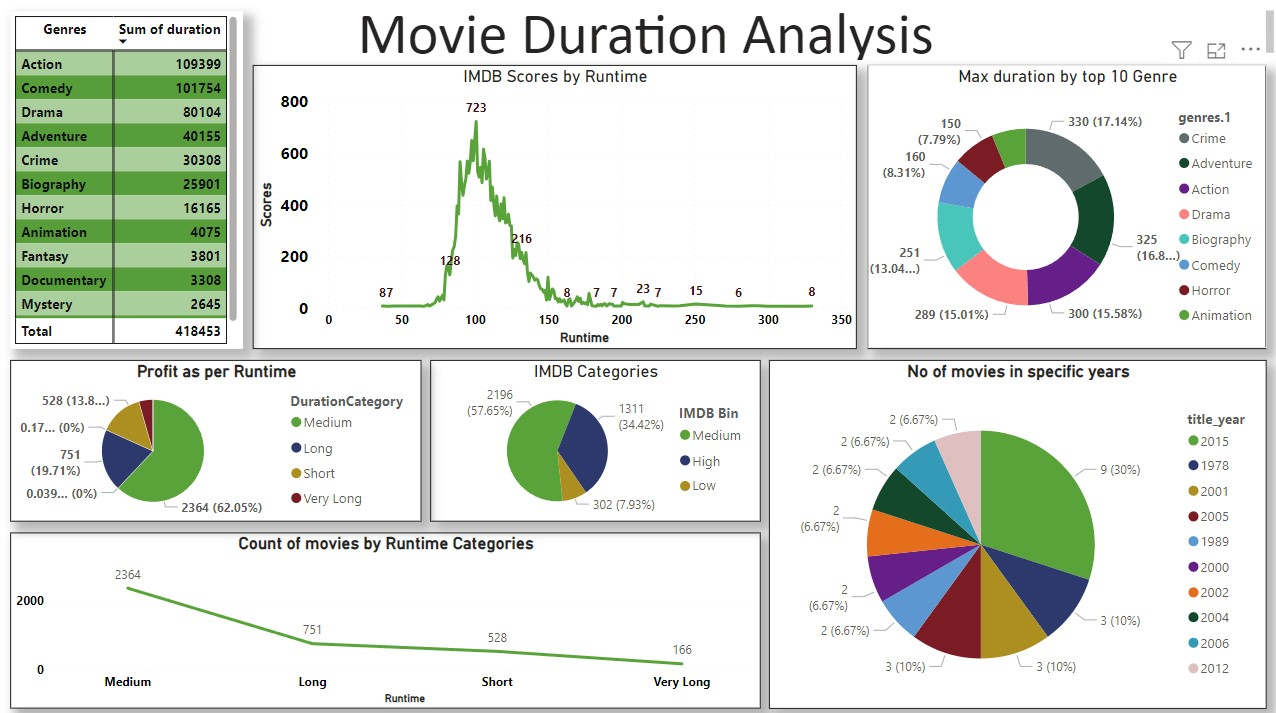

Layout of this report page (visuals, bound fields, positions):
{"tool":"powerbi","page":{"name":"Movie Duration Analysis","canvas":[1280,720],"ordinal":1},"visuals":[{"type":"textbox","box":[21.2,0,1258.8,65],"z":0},{"type":"lineChart","title":"IMDB Scores by Runtime","fields":{"Category":["IMDB_Movies.duration"],"Y":["Sum(IMDB_Movies.imdb_score)"]},"box":[253.8,65,603.8,283.8],"z":1000},{"type":"lineChart","title":"Count of movies  by Runtime Categories","fields":{"Category":["IMDB_Movies.DurationCategory"],"Y":["IMDB_Movies.MovieCount"]},"box":[11.2,532.5,750,176.2],"z":2000},{"type":"pieChart","title":"IMDB Categories","fields":{"Category":["IMDB_Movies.IMDB Bin"],"Y":["IMDB_Movies.MovieCount"]},"box":[431.2,360,330,161.2],"z":3000},{"type":"donutChart","title":"Max duration by top 10 Genre","fields":{"Category":["IMDB_Movies.genres.1"],"Y":["Max(IMDB_Movies.duration)"]},"box":[868.8,65,398.8,283.8],"z":4000},{"type":"pivotTable","fields":{"Rows":["IMDB_Movies.genres.1"],"Values":["Sum(IMDB_Movies.duration)"]},"box":[11.2,11.2,232.5,337.5],"z":5000},{"type":"pieChart","title":"No of movies in specific years","fields":{"Category":["IMDB_Movies.title_year"],"Y":["IMDB_Movies.MovieCount"]},"box":[770,360,497.5,348.8],"z":6000},{"type":"pieChart","title":"Profit as per Runtime","fields":{"Y":["CountNonNull(IMDB_Movies.duration)","IMDB_Movies.Profit Margin"],"Category":["IMDB_Movies.DurationCategory"]},"box":[11.2,360,411.2,161.2],"z":7000}]}

Visuals, with their boxes in screenshot pixels (x1, y1, x2, y2), scaled from the page's 1280x720 canvas onto the 1276x713 screenshot:
textbox: {"left": 21, "top": 0, "right": 1275, "bottom": 64}
"IMDB Scores by Runtime" lineChart: {"left": 253, "top": 64, "right": 855, "bottom": 345}
"Count of movies  by Runtime Categories" lineChart: {"left": 11, "top": 527, "right": 759, "bottom": 702}
"IMDB Categories" pieChart: {"left": 430, "top": 356, "right": 759, "bottom": 516}
"Max duration by top 10 Genre" donutChart: {"left": 866, "top": 64, "right": 1264, "bottom": 345}
pivotTable - IMDB_Movies.genres.1 x Sum(IMDB_Movies.duration): {"left": 11, "top": 11, "right": 243, "bottom": 345}
"No of movies in specific years" pieChart: {"left": 768, "top": 356, "right": 1264, "bottom": 702}
"Profit as per Runtime" pieChart: {"left": 11, "top": 356, "right": 421, "bottom": 516}
